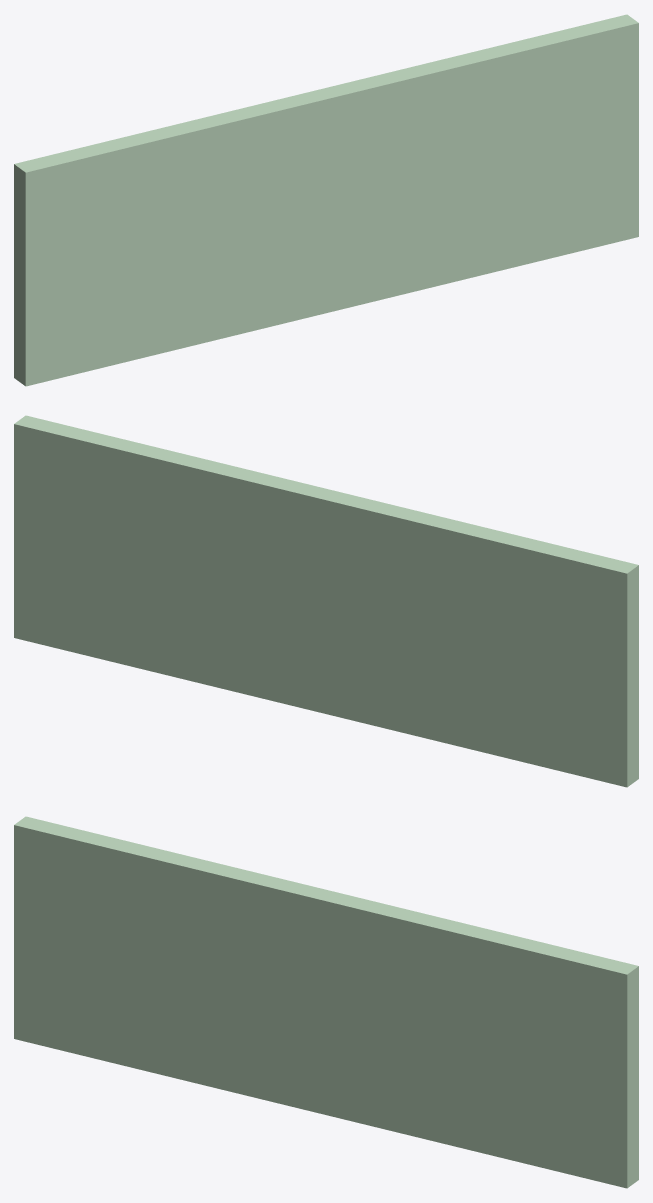
3 views of the same model, one above another, from view 1: azimuth 30°, elevation 25°; view 2: azimuth 150°, elevation 25°; view 3: azimuth 330°, elevation 25° (orthographic).
Visible parts, largest first — view 1: <组件#89>_1; view 2: <组件#89>_1; view 3: <组件#89>_1.
Part boxes in pixels (<box>): <组件#89>_1: <box>14,14,638,386</box>; <组件#89>_1: <box>14,415,638,787</box>; <组件#89>_1: <box>14,816,638,1188</box>.
Size of the model in its own units: 118 by 39.37 by 3.94.
